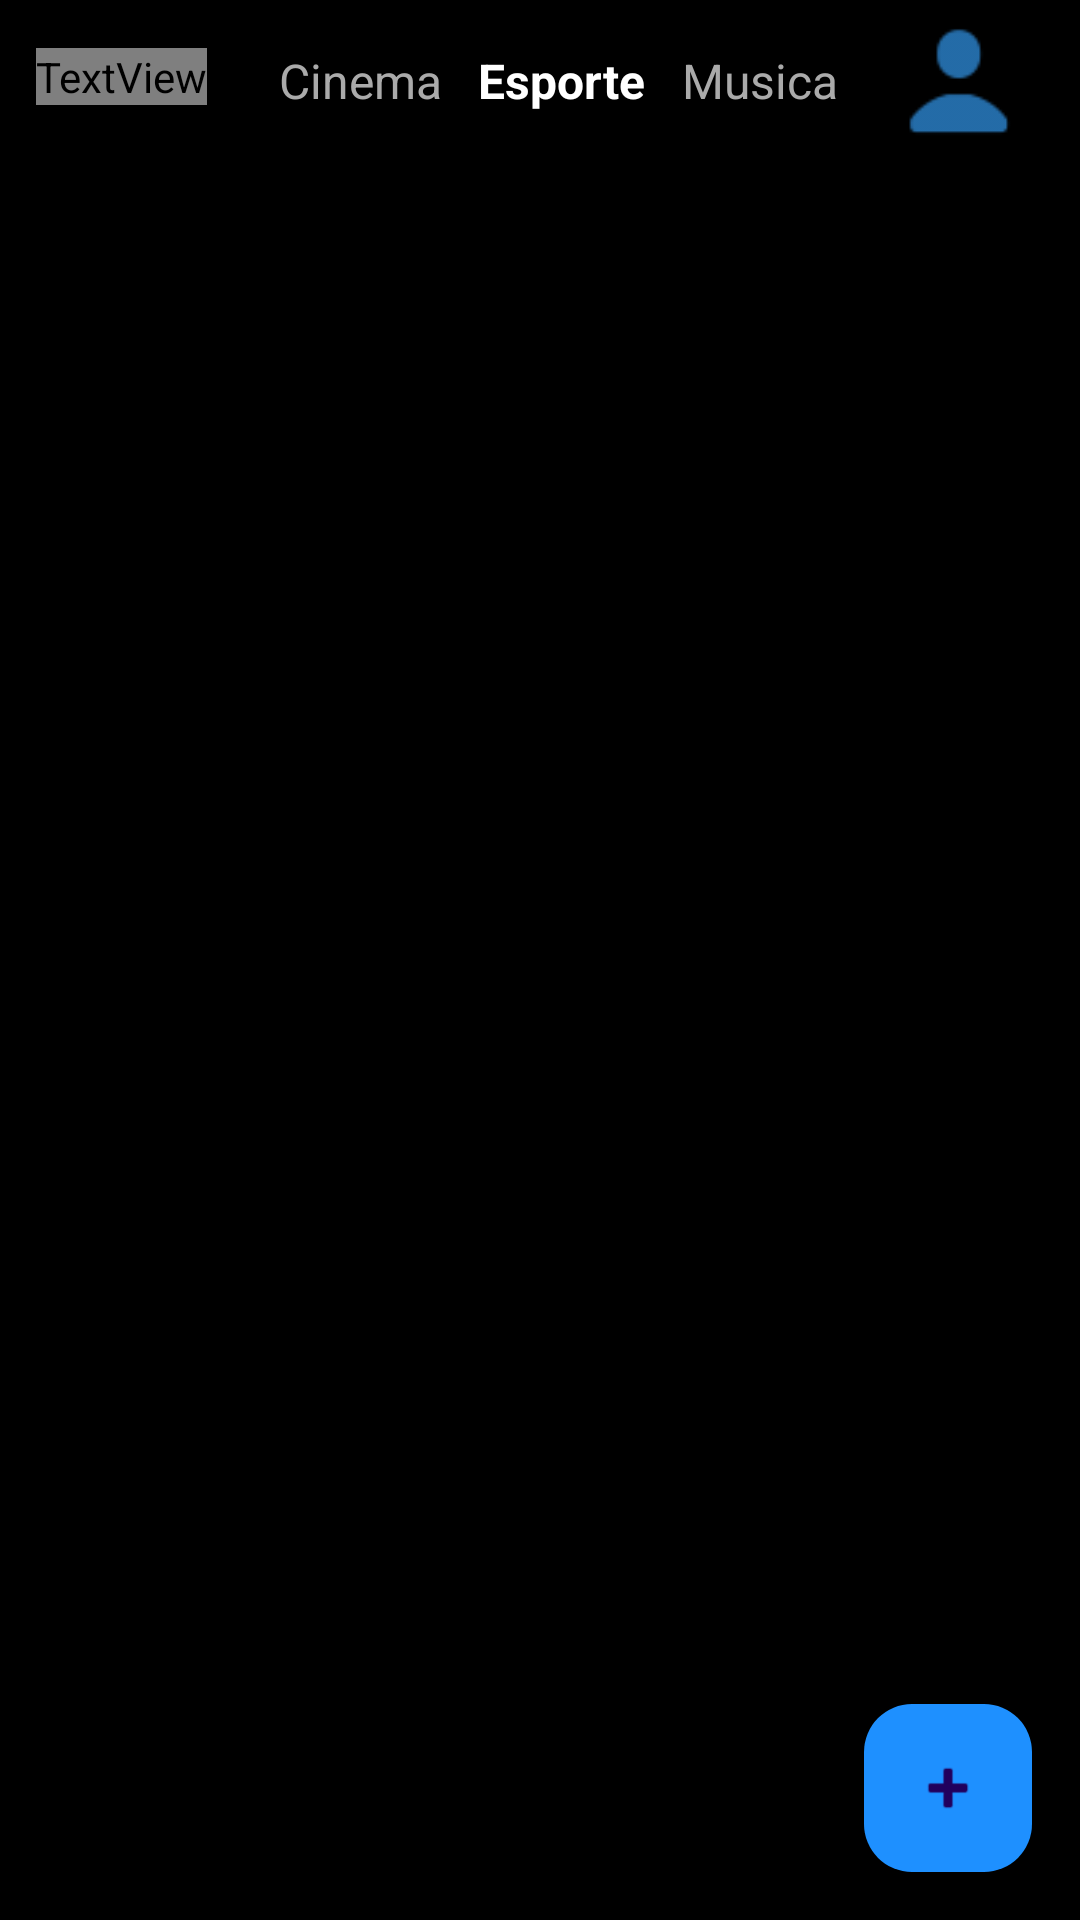

Locate icon controls on the screen. Image size 1080 x 1920, boxes as (x1, y1, x2, y2).
add: (864, 1704, 1032, 1872)
Foto do usuário: (909, 29, 1008, 133)
